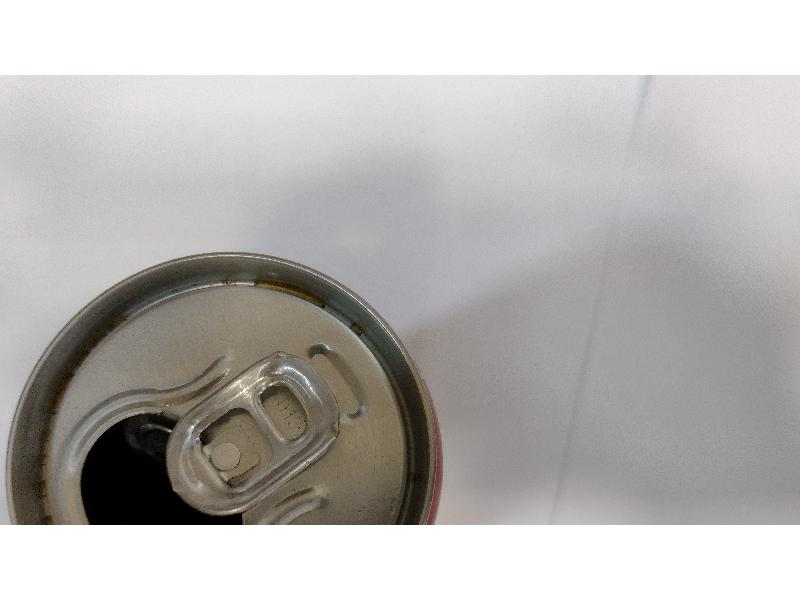can: (1, 232, 453, 527)
